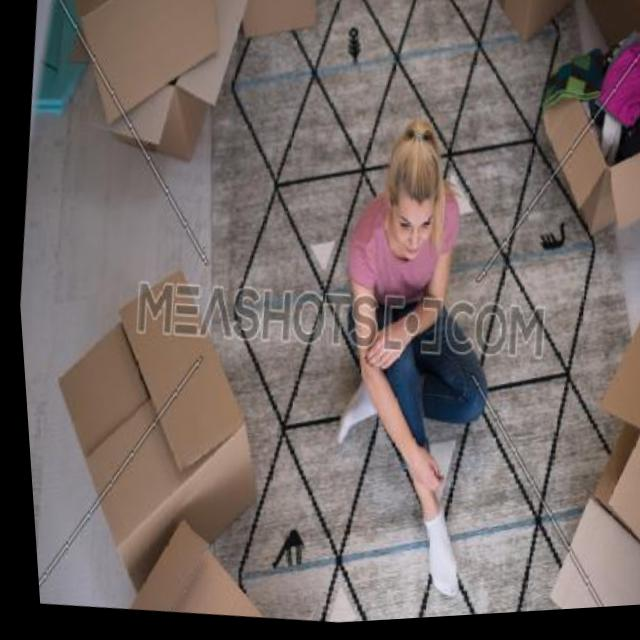box: (14, 242, 293, 608), (39, 0, 343, 198), (508, 25, 640, 284), (88, 495, 294, 631), (556, 289, 640, 558)
